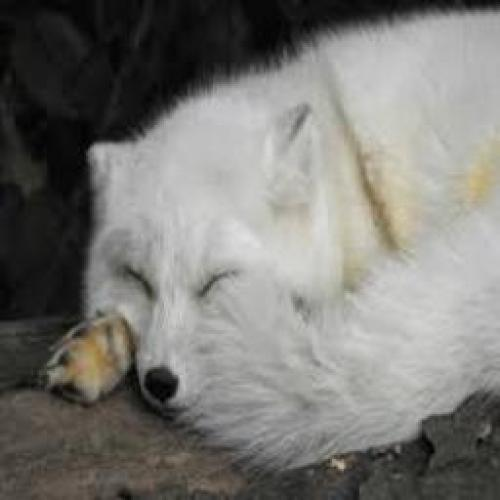arctic_fox-endangered: (84, 10, 500, 469), (36, 311, 135, 409)
